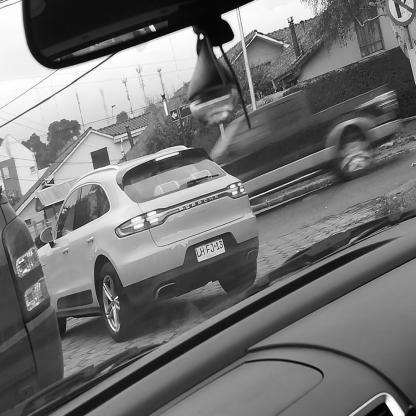Patente: (193, 235, 227, 265)
